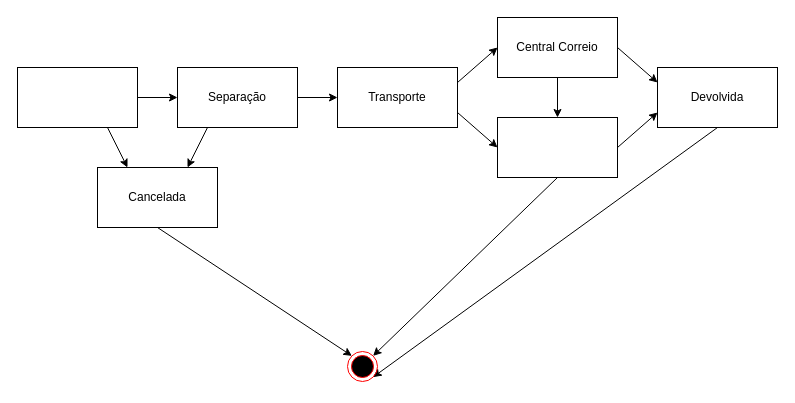
The diagram is 795 pixels wide and 403 high, and some of its shapes have lost their labels. Each missing label, with the centre of its shape:
"Entregue" goes at pixel 557 147.
"Recebida" goes at pixel 77 97.
